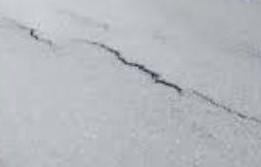crack: (12, 19, 261, 126)
